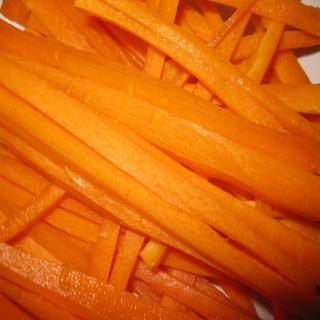Carrot: (0, 47, 320, 293)
